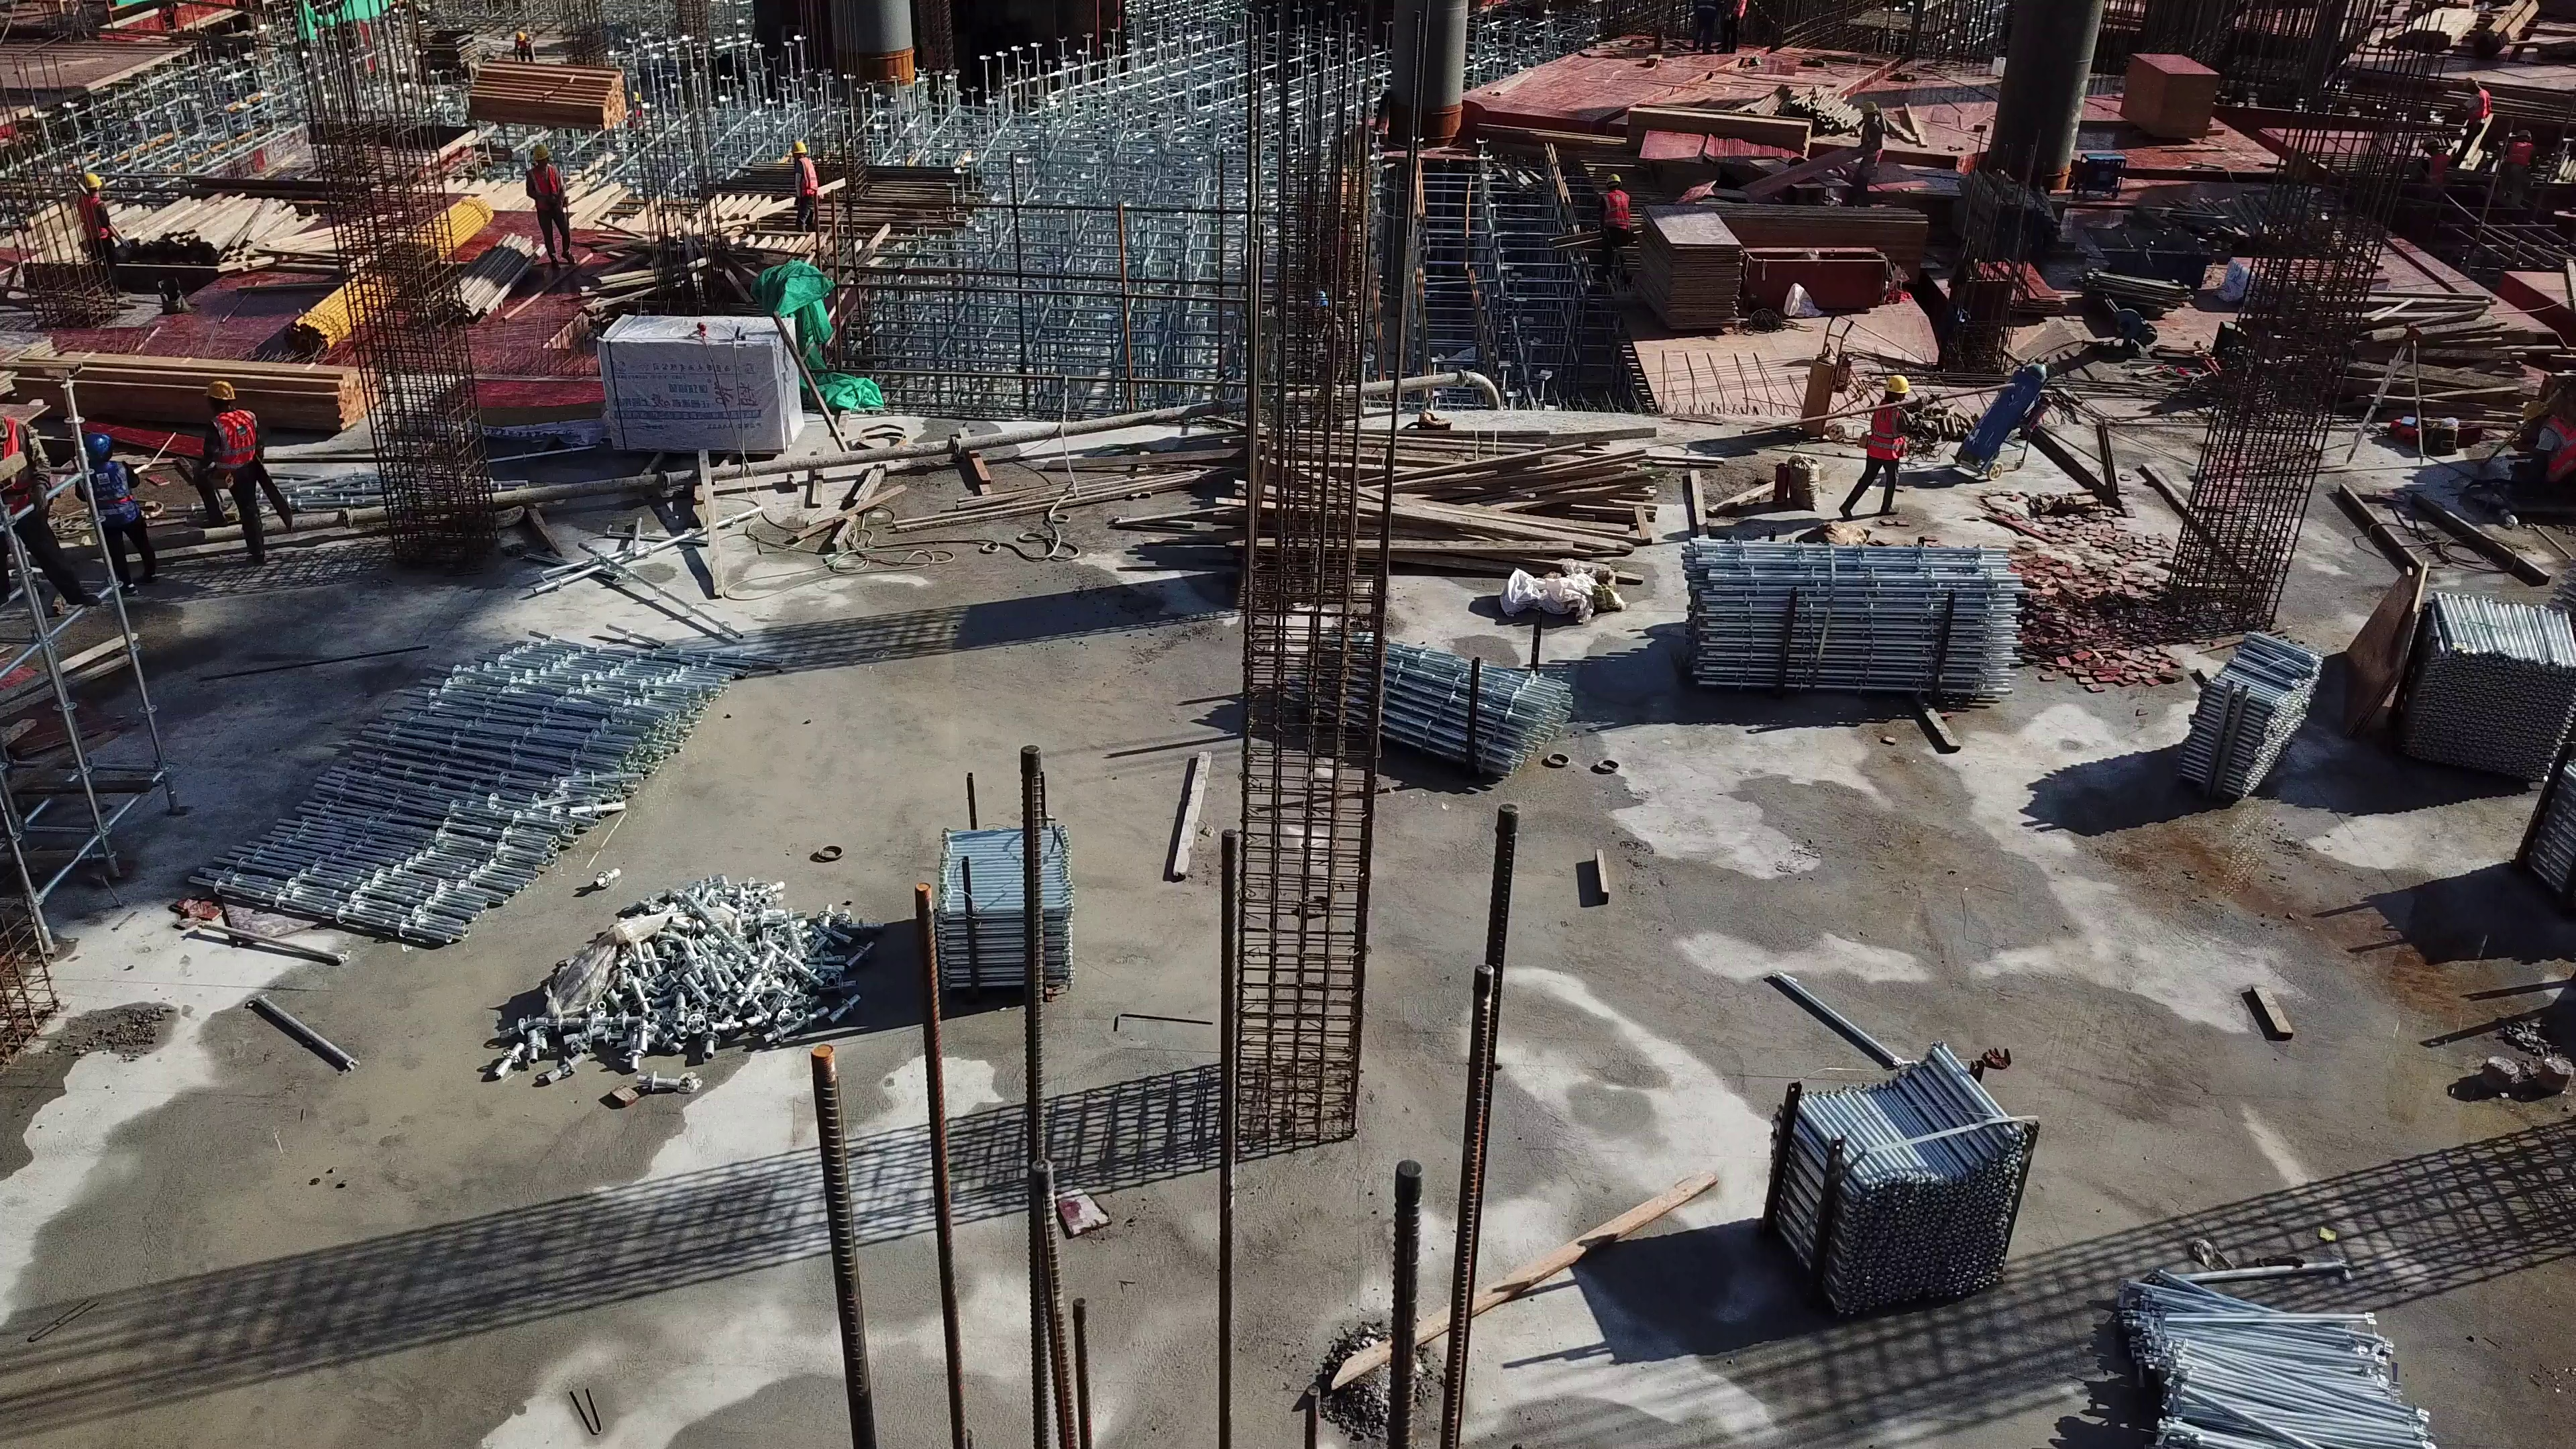helmet: (85, 433, 119, 460), (205, 380, 234, 402), (2523, 398, 2546, 425), (1880, 375, 1910, 396), (1862, 104, 1883, 116), (83, 173, 102, 186), (535, 147, 550, 162), (792, 140, 808, 154), (1607, 174, 1623, 184), (2422, 136, 2436, 149), (2466, 76, 2477, 89), (517, 30, 524, 41)
person: (2, 412, 100, 616), (74, 432, 159, 600), (190, 381, 263, 569), (1839, 375, 1933, 520), (70, 172, 129, 301), (526, 146, 572, 273), (2522, 398, 2576, 508), (1310, 290, 1350, 426), (1849, 102, 1883, 206), (1598, 174, 1627, 277), (2455, 76, 2486, 169), (790, 142, 816, 228), (2502, 130, 2535, 193), (2417, 136, 2449, 184), (1721, 1, 1748, 55), (1693, 1, 1714, 54), (513, 31, 534, 63)
vest: (80, 461, 135, 522), (213, 410, 253, 470), (4, 417, 28, 513), (1867, 401, 1902, 464), (2544, 414, 2576, 478), (77, 193, 106, 239), (531, 166, 560, 207), (1606, 191, 1633, 232), (1863, 122, 1882, 163), (796, 156, 814, 194), (2428, 154, 2447, 180), (2508, 142, 2527, 164), (2476, 88, 2490, 118), (1731, 1, 1743, 19)
